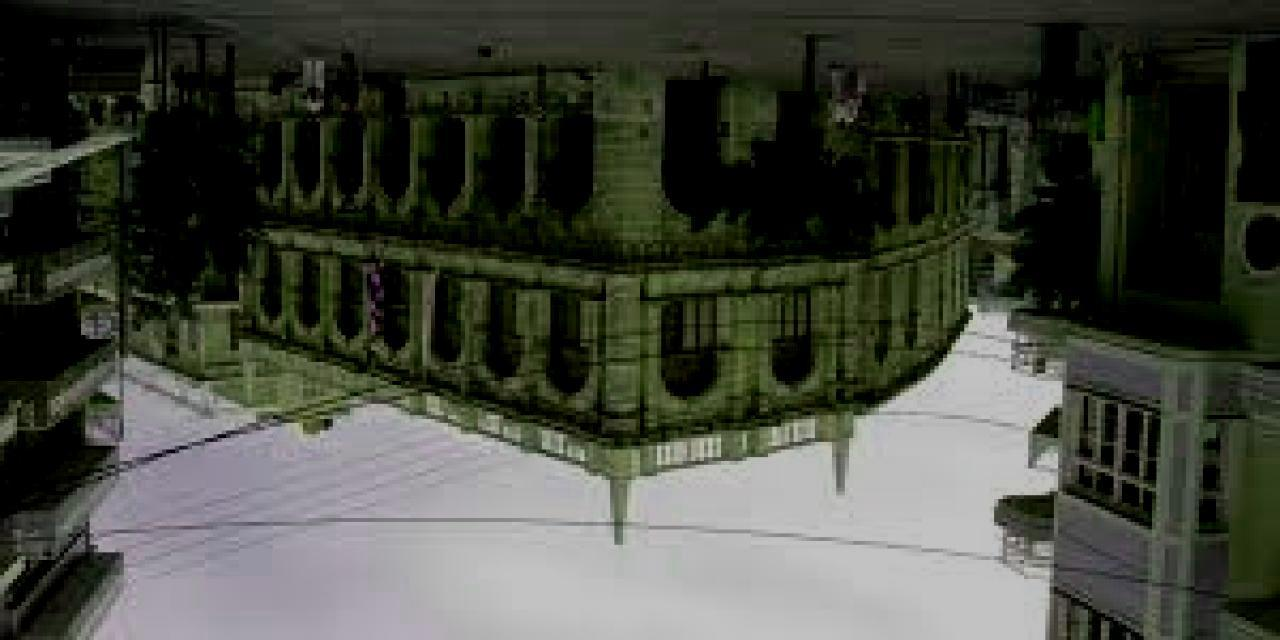Loggia: (245, 70, 972, 549)
